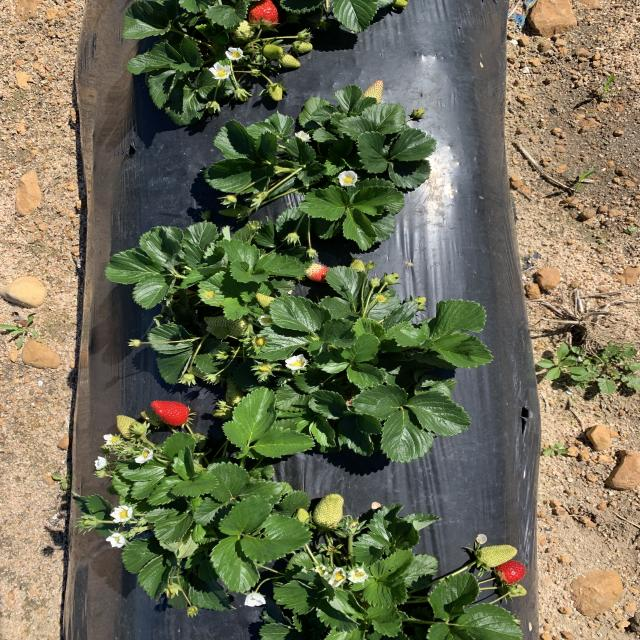unripe: (148, 398, 192, 428), (244, 0, 284, 31), (490, 558, 528, 588)
